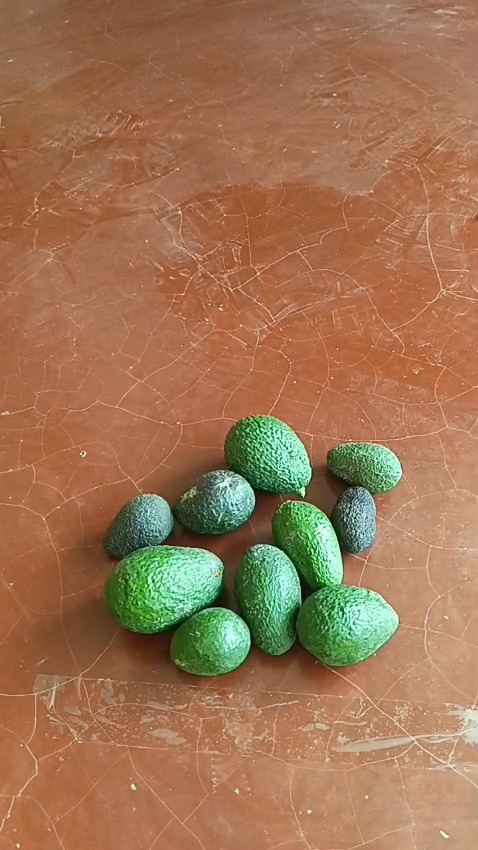Primera: (104, 544, 224, 632), (294, 582, 398, 666), (223, 414, 313, 494)
Segunda: (233, 543, 302, 655), (271, 499, 343, 590), (171, 468, 256, 535)
Tercera: (169, 607, 251, 676), (102, 492, 174, 559), (326, 440, 403, 492), (330, 485, 377, 553)
